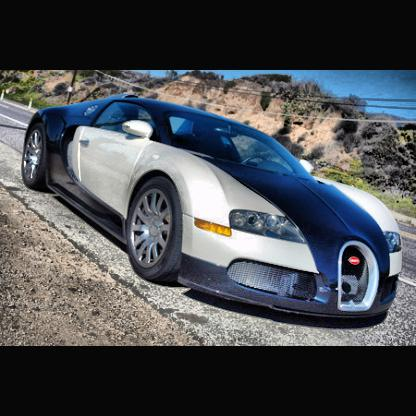Bugatti Veyron 16-4 Coupe 2009: (25, 94, 404, 329)
